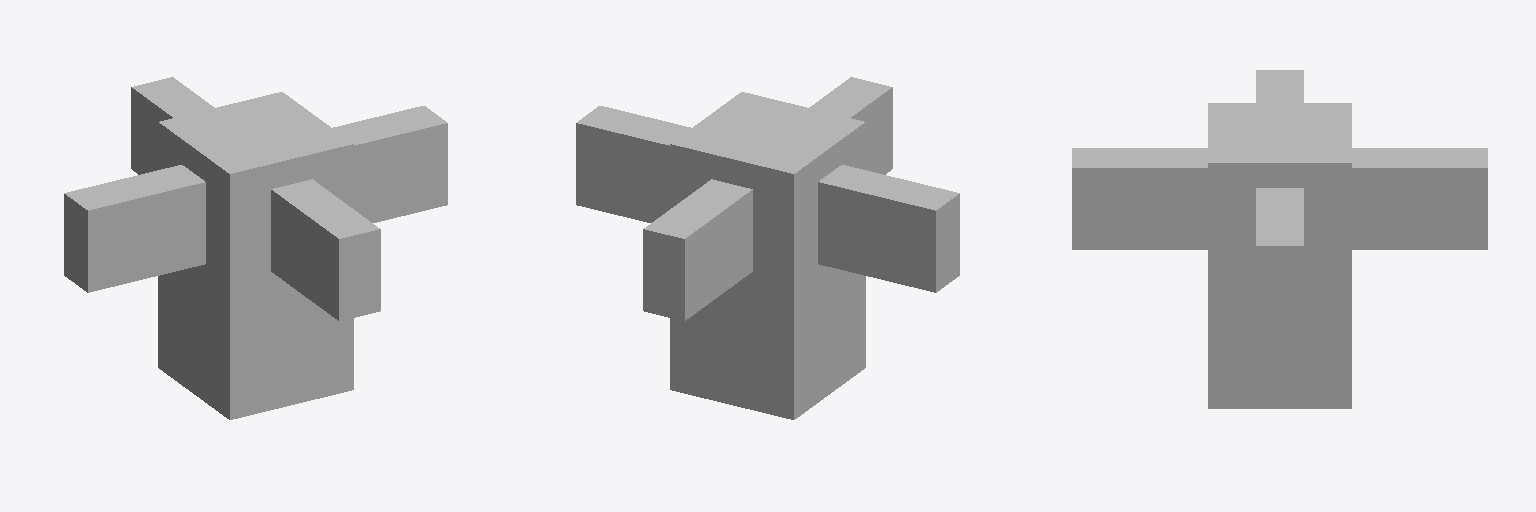
Rendered from monster.obj.
The picture shows the model from 3 angles: view 1: azimuth 30°, elevation 25°; view 2: azimuth 150°, elevation 25°; view 3: azimuth 270°, elevation 25°; orthographic projection.
Visible parts, largest first — view 1: monster_Cube.006; view 2: monster_Cube.006; view 3: monster_Cube.006.
Boxes of the visible parts, x1,y1,x2,y2 form: monster_Cube.006: [64, 77, 447, 419]; monster_Cube.006: [576, 77, 959, 419]; monster_Cube.006: [1072, 70, 1487, 408].
Size of the model in its own units: 1.53 by 1 by 1.53.